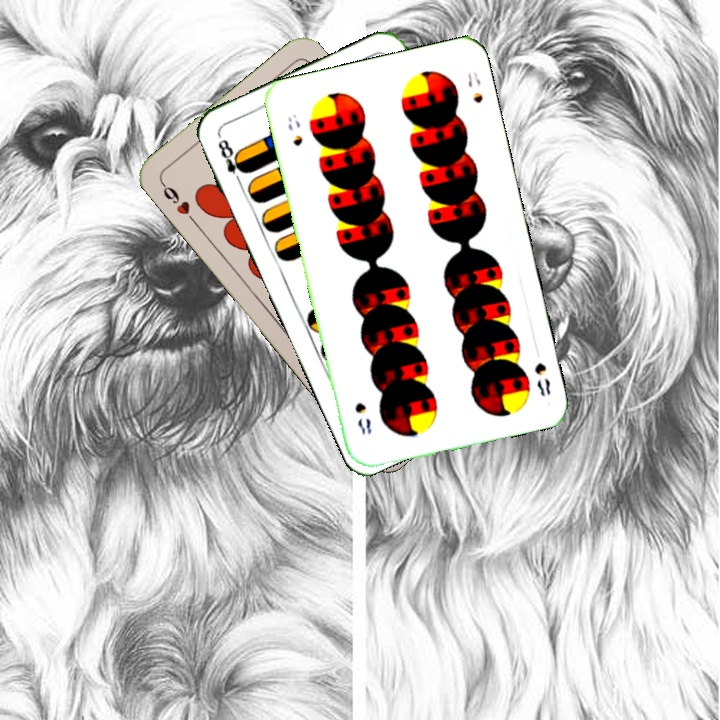E8: (213, 131, 250, 187)
H9: (157, 178, 200, 227)
S8: (530, 358, 554, 399), (283, 110, 306, 149)
